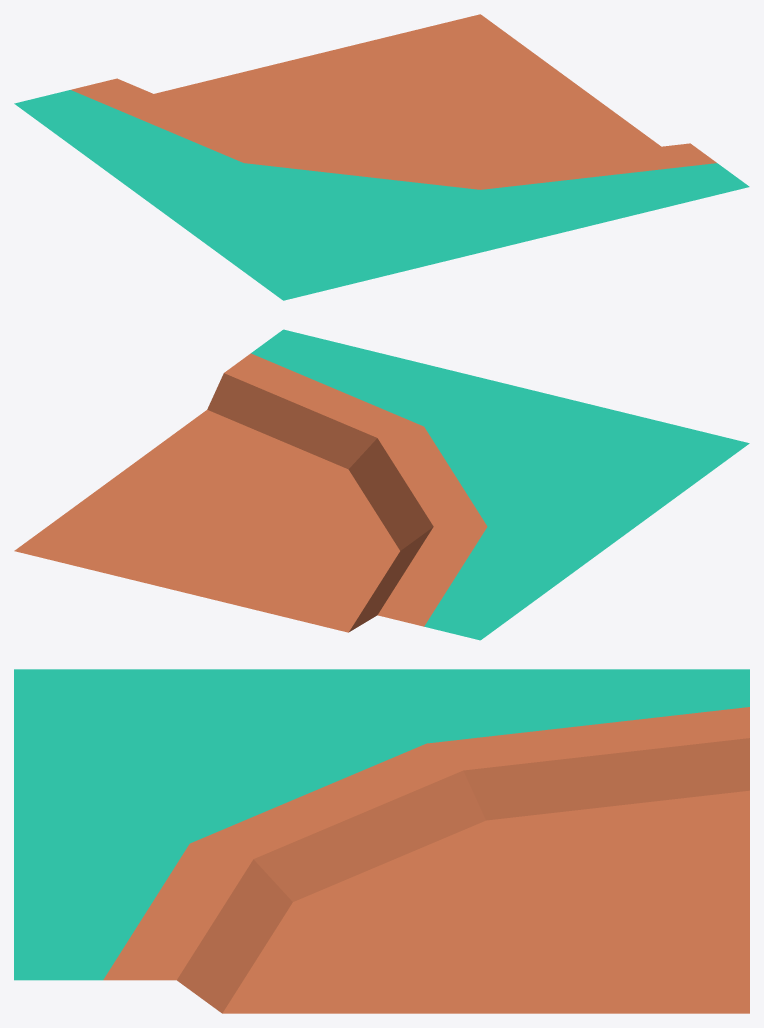
The model's file is ground_pathCorner.dae.
The picture shows the model from 3 angles, top to bottom: view 1: azimuth 30°, elevation 25°; view 2: azimuth 150°, elevation 25°; view 3: azimuth 270°, elevation 25°; orthographic projection. The views are drawn at different scales.
Parts seen in each view (by area): view 1: ground_pathCorner; view 2: ground_pathCorner; view 3: ground_pathCorner.
Boxes of the visible parts, box(x1,y1,x2,y2) form: ground_pathCorner: box(14, 14, 749, 300); ground_pathCorner: box(14, 329, 749, 640); ground_pathCorner: box(14, 669, 749, 1013).
Size of the model in its own units: 1 by 0.05 by 1.
